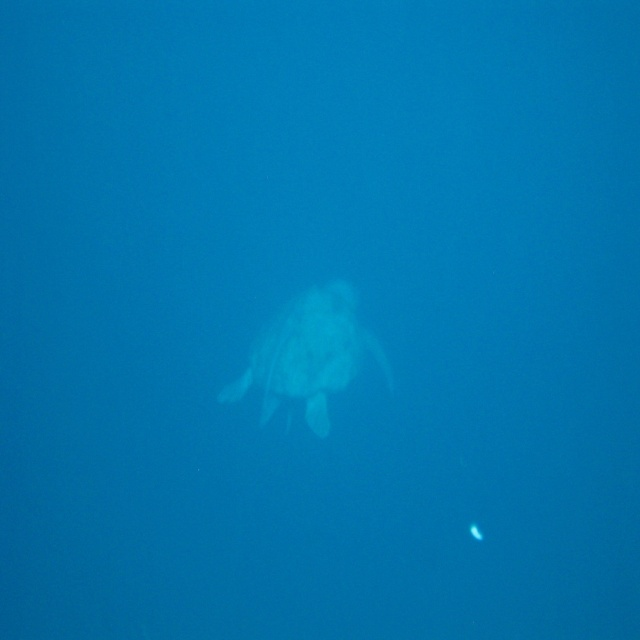Sea turtle: (216, 278, 395, 440)
